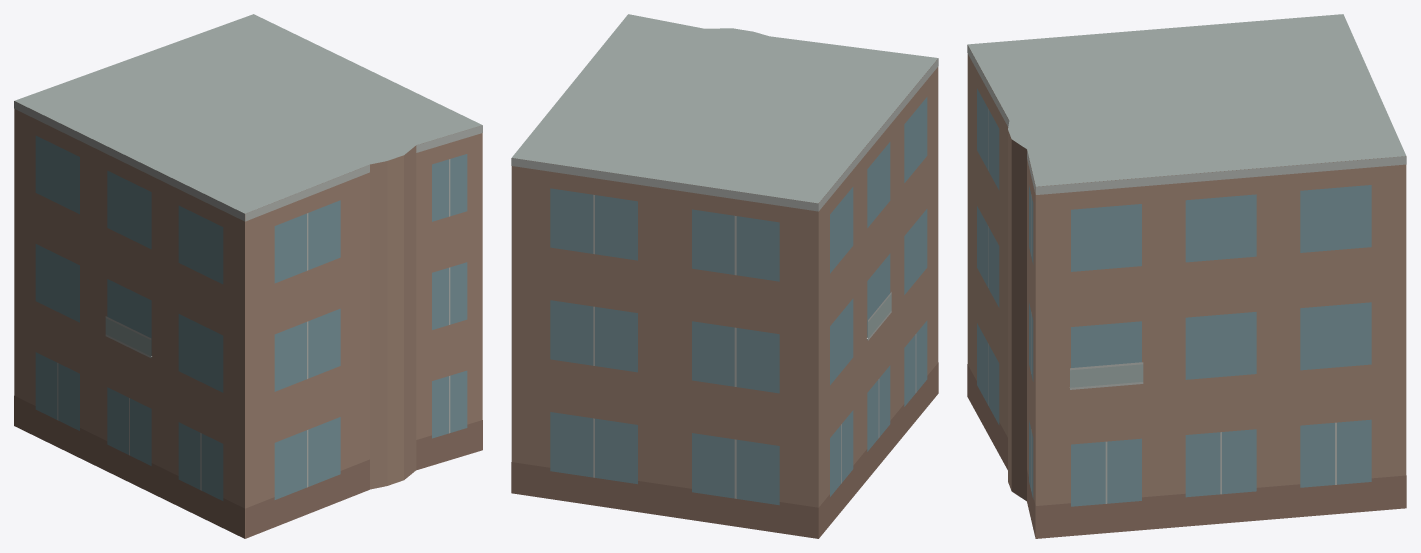
Rendered from survey-upis-32539456.glb.
3 renders of one model, left to right at view 1: azimuth 30°, elevation 25°; view 2: azimuth 150°, elevation 25°; view 3: azimuth 270°, elevation 25°, orthographic. The views are drawn at different scales.
Visible parts, largest first — view 1: survey-upis-32539456.tmp; view 2: survey-upis-32539456.tmp; view 3: survey-upis-32539456.tmp.
Part boxes in pixels (x1=…): survey-upis-32539456.tmp: x1=14, y1=14, x2=482, y2=538; survey-upis-32539456.tmp: x1=511, y1=14, x2=938, y2=538; survey-upis-32539456.tmp: x1=967, y1=14, x2=1406, y2=538.
Bounding box in the file's own units: 10.63 × 10.1 × 11.42.
